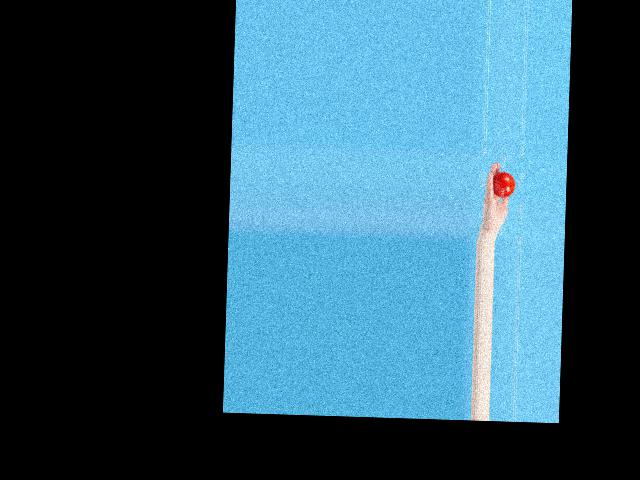tomato: (492, 171, 515, 198)
